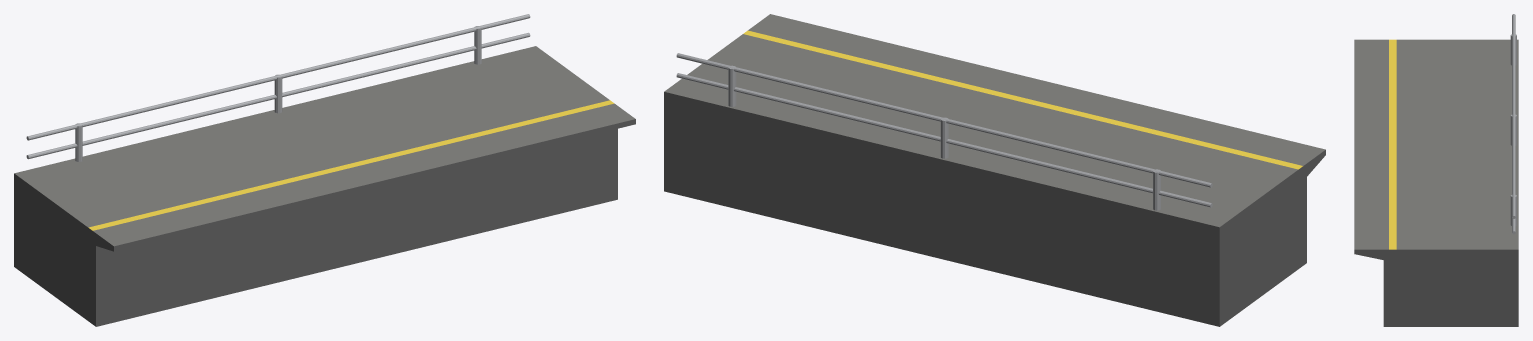
File: platform.glb
The picture shows the model from 3 angles, left to right: view 1: azimuth 30°, elevation 25°; view 2: azimuth 150°, elevation 25°; view 3: azimuth 270°, elevation 25°; orthographic projection. The views are drawn at different scales.
Visible parts, largest first — view 1: Cube, Cylinder.001; view 2: Cube, Cylinder.001; view 3: Cube, Cylinder.001.
Part boxes in pixels (x1,y1,x2,y2): Cube: [14, 46, 635, 326]; Cylinder.001: [26, 14, 530, 161]; Cube: [664, 14, 1325, 326]; Cylinder.001: [676, 53, 1212, 210]; Cube: [1354, 39, 1518, 326]; Cylinder.001: [1510, 14, 1516, 234].
Size of the model in its own units: 10.5 by 2.5 by 3.48.
